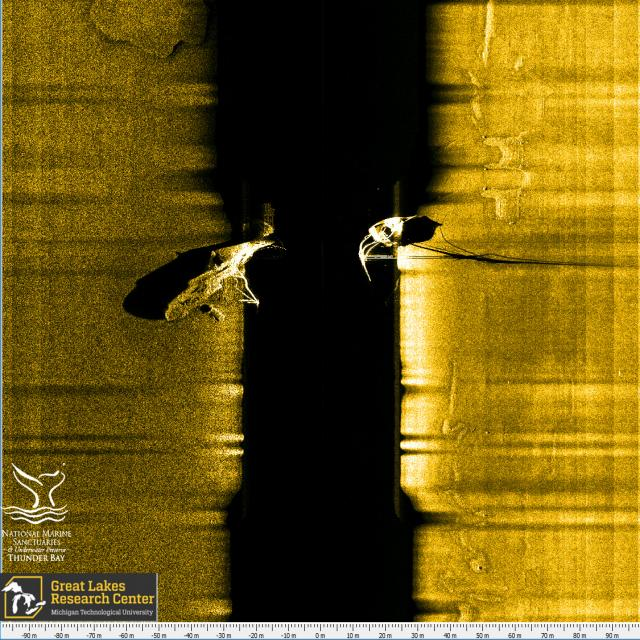ship: (159, 221, 290, 344)
